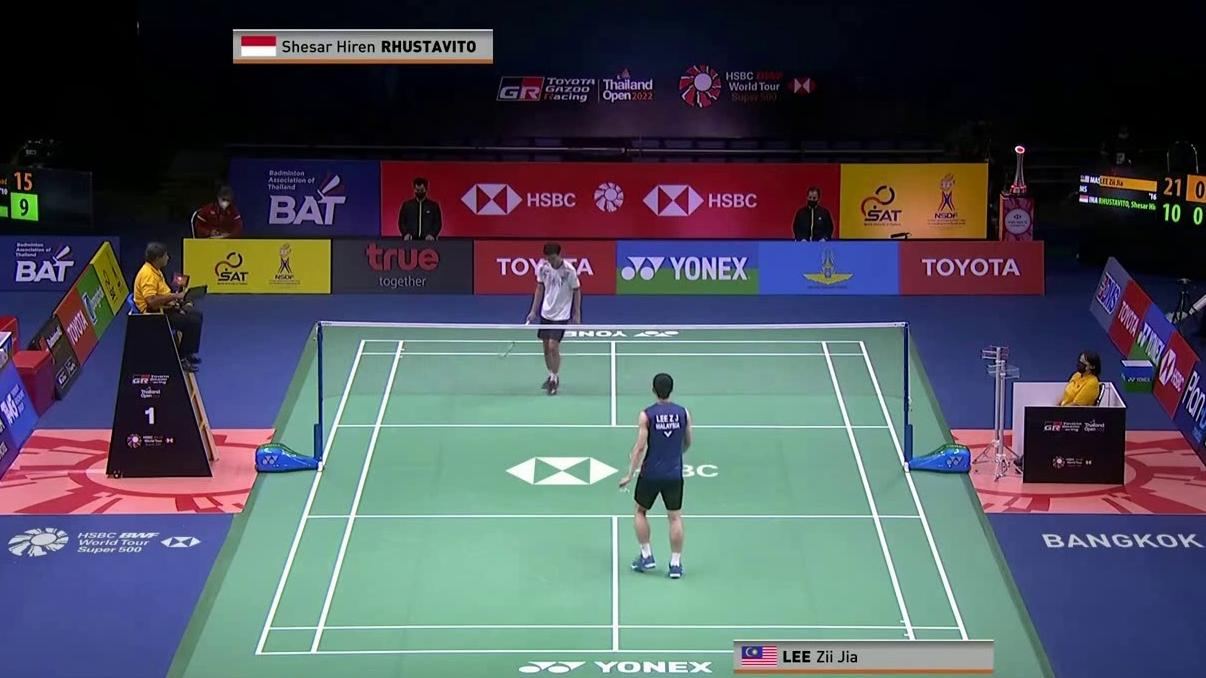racket: (496, 316, 535, 359)
shuttle: (616, 481, 631, 495)
